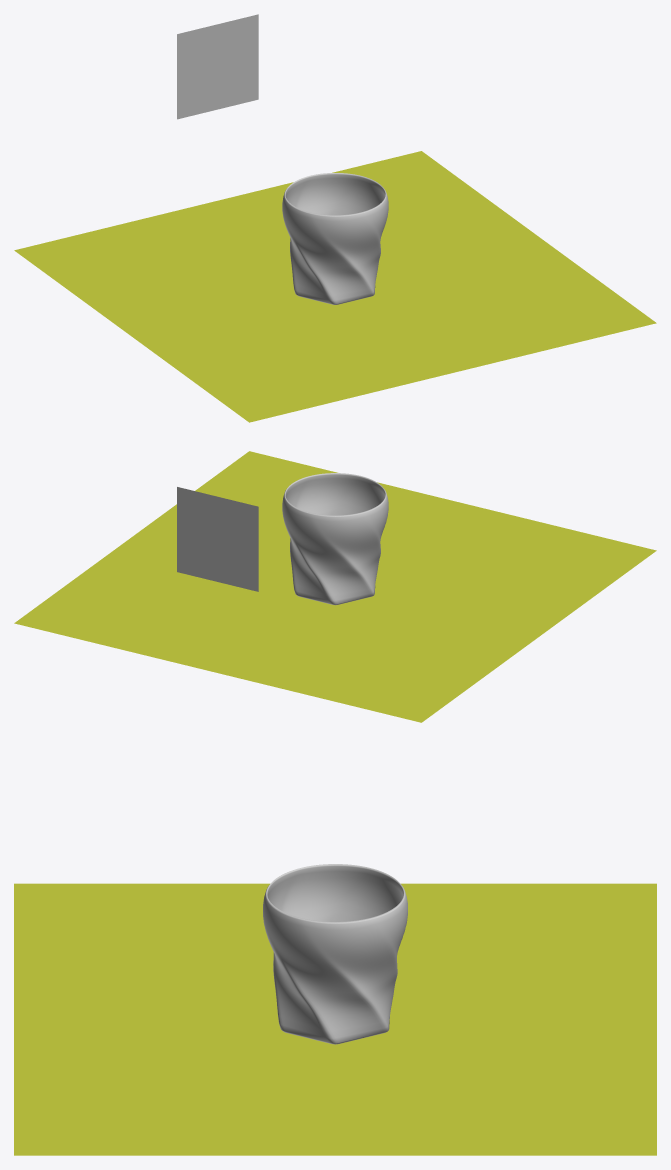
The model's file is glass.obj.
The picture shows the model from 3 angles, top to bottom: view 1: azimuth 30°, elevation 25°; view 2: azimuth 150°, elevation 25°; view 3: azimuth 270°, elevation 25°; orthographic projection. The views are drawn at different scales.
Parts seen in each view (by area): view 1: Plane, Glass, Plane.001; view 2: Plane, Glass, Plane.001; view 3: Plane, Glass.
Boxes of the visible parts, x1,y1,x2,y2 form: Plane: (14, 151, 656, 422); Glass: (282, 173, 388, 304); Plane.001: (177, 14, 258, 119); Plane: (14, 451, 656, 722); Glass: (282, 473, 388, 605); Plane.001: (177, 487, 258, 591); Plane: (14, 883, 656, 1155); Glass: (263, 864, 407, 1044).
Bounding box in the file's own units: 10 × 4.14 × 10.
